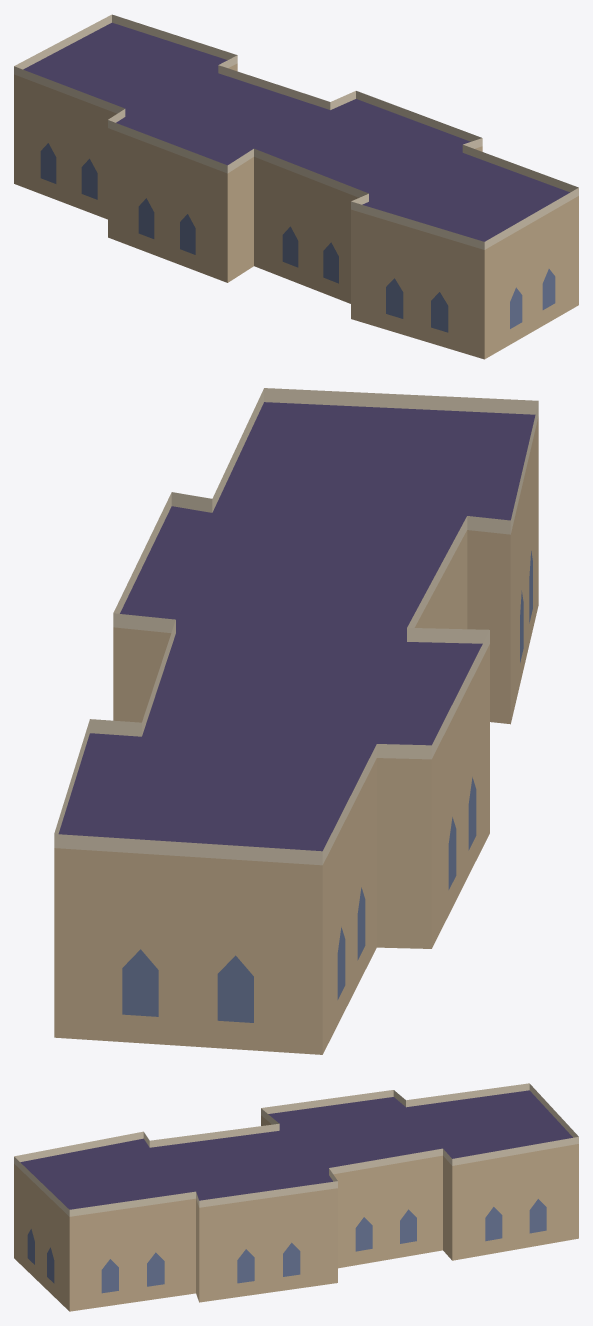
The model's file is b-042-day.glb.
The picture shows the model from 3 angles, top to bottom: view 1: azimuth 30°, elevation 25°; view 2: azimuth 150°, elevation 25°; view 3: azimuth 270°, elevation 25°; orthographic projection. The views are drawn at different scales.
Visible parts, largest first — view 1: campus/b-042-day-0; view 2: campus/b-042-day-0; view 3: campus/b-042-day-0.
Boxes of the visible parts, x1,y1,x2,y2 form: campus/b-042-day-0: [14, 14, 578, 359]; campus/b-042-day-0: [54, 388, 538, 1054]; campus/b-042-day-0: [14, 1083, 578, 1311].
Size of the model in its own units: 21.18 by 7.95 by 39.96.
